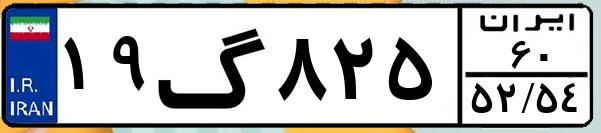0: (537, 27, 568, 80)
1: (57, 26, 110, 100)
2: (330, 28, 385, 110), (495, 70, 520, 125)
4: (560, 70, 590, 125)
5: (385, 28, 445, 110), (470, 70, 495, 125), (535, 70, 560, 125)
6: (508, 27, 537, 80)
8: (270, 28, 330, 110)
9: (110, 28, 156, 98)
گ: (156, 12, 270, 120)
